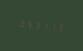five: (25, 18, 32, 30)
one: (50, 20, 57, 32), (42, 20, 49, 31)
three: (58, 21, 65, 33), (34, 19, 41, 30)
zero: (17, 17, 24, 29)
